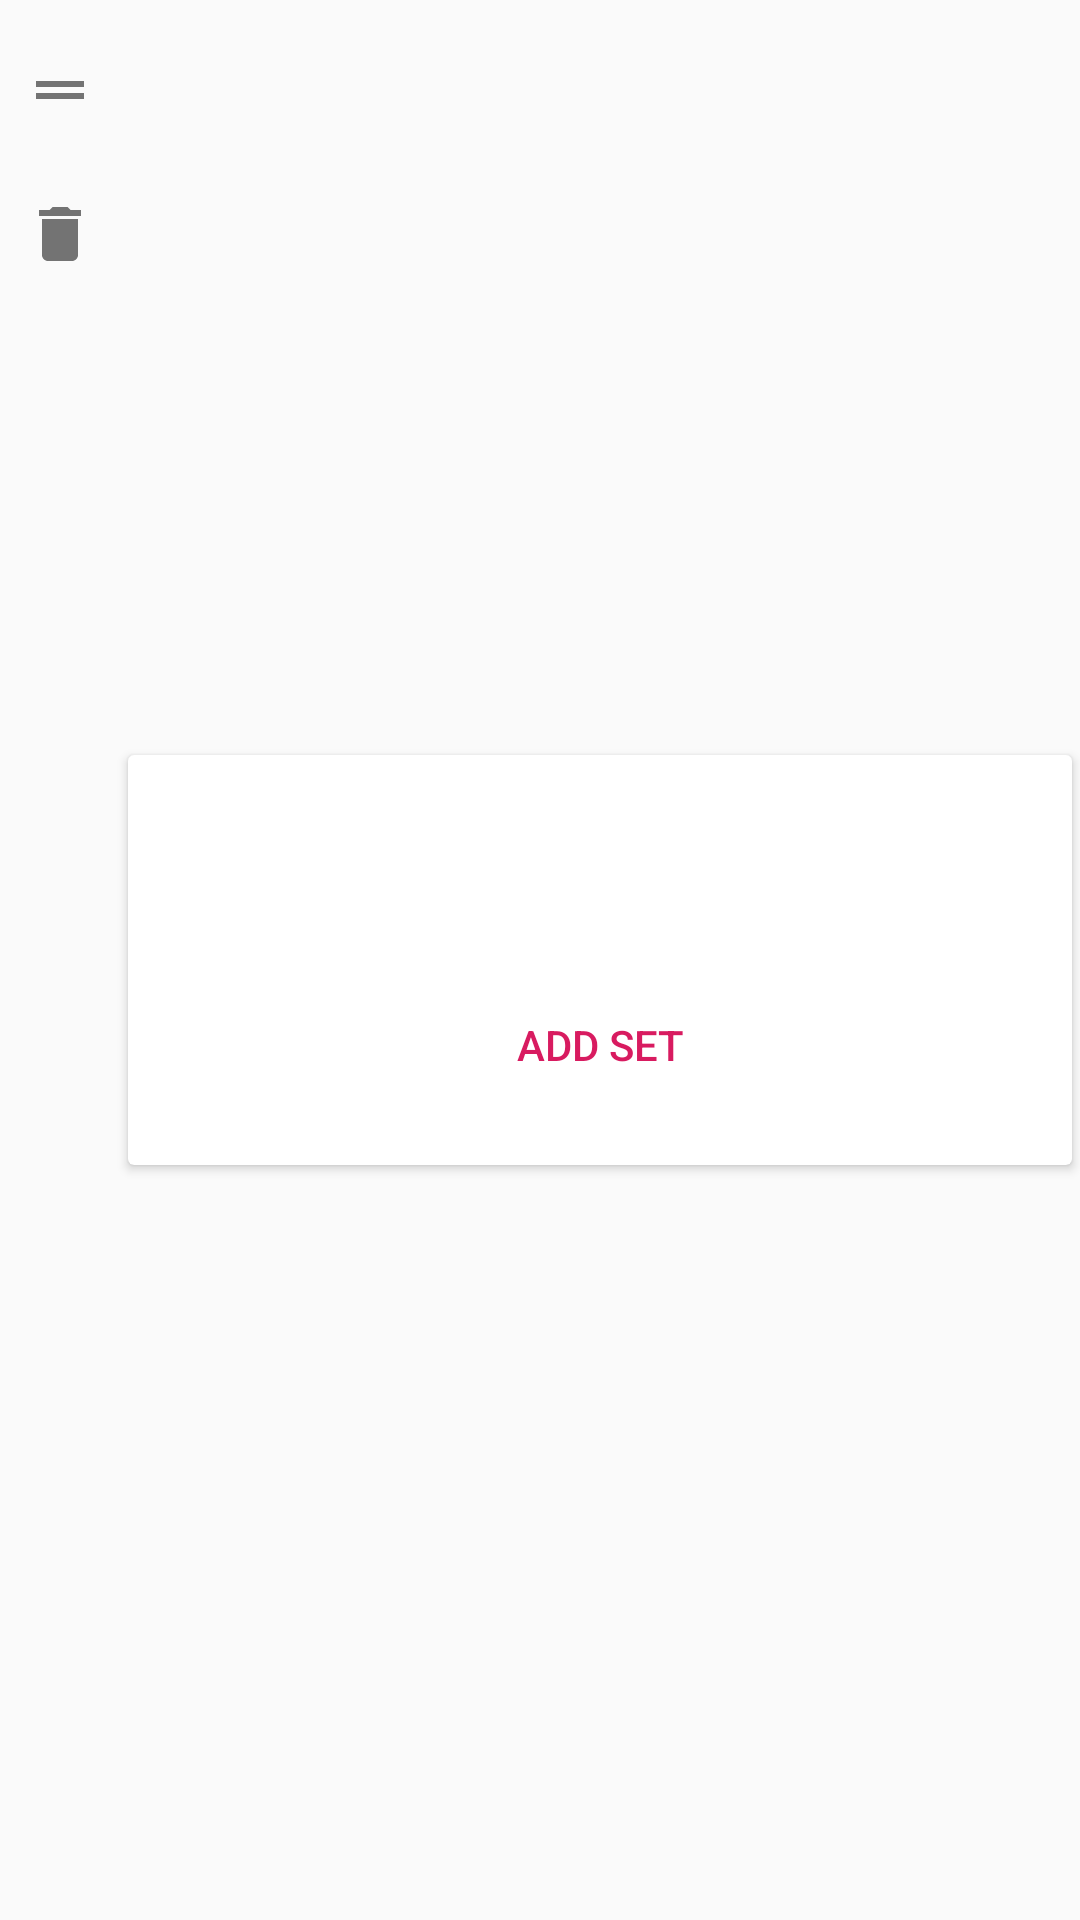

Point at icon controls on the screen. Image size 1080px x 1920px, points as point (x, y).
delete: point (60, 234)
drag handle: point (60, 90)
